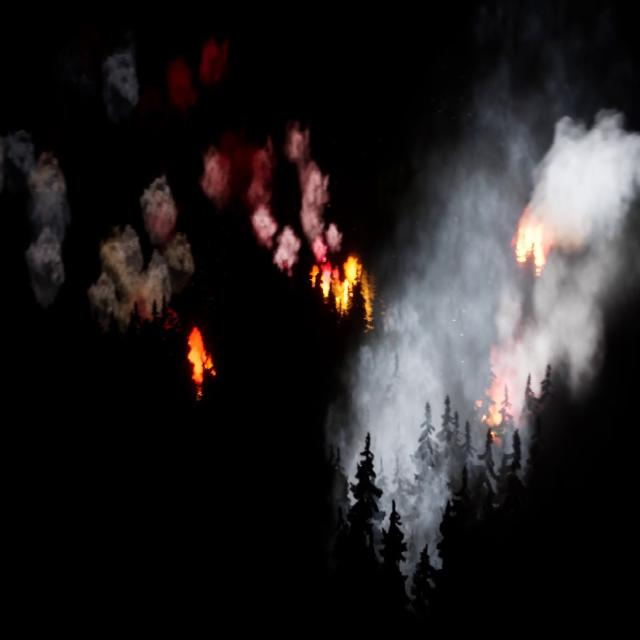fire: (475, 385, 518, 447), (184, 328, 214, 400), (313, 258, 359, 298), (512, 215, 542, 272)
smoke: (325, 68, 640, 582), (1, 51, 190, 320), (202, 121, 338, 274)
